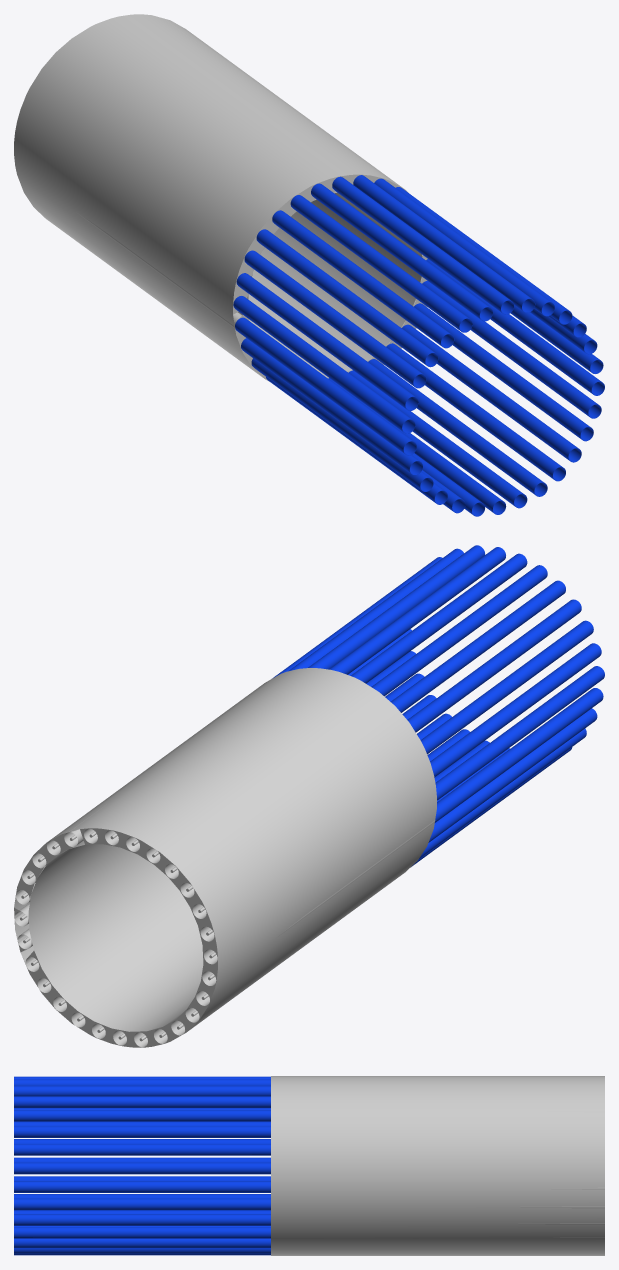
File: pow2019.FBX
3 renders of one model, top to bottom at view 1: azimuth 30°, elevation 25°; view 2: azimuth 150°, elevation 25°; view 3: azimuth 270°, elevation 25°, orthographic. The views are drawn at different scales.
Parts seen in each view (by area): view 1: Part19:1, aairbag:9, aairbag:6, aairbag:7, aairbag:11, aairbag:2, aairbag:3, aairbag:27, aairbag:1, aairbag:8, aairbag:5, aairbag:15 (+15 smaller); view 2: Part19:1, aairbag:11, aairbag:2, aairbag:3, aairbag:1, aairbag:8, aairbag:7, aairbag:9, aairbag:6, aairbag:27, aairbag:5, aairbag:24 (+3 smaller); view 3: Part19:1, aairbag:5, aairbag:19, aairbag:21, aairbag:4, aairbag:10, aairbag:17, aairbag:18, aairbag:20, aairbag:22, aairbag:6, aairbag:15 (+11 smaller).
Part boxes in pixels (left/top/right/bottom): Part19:1: left=14, top=14, right=427, bottom=381; aairbag:9: left=233, top=296, right=415, bottom=433; aairbag:6: left=332, top=177, right=514, bottom=314; aairbag:7: left=311, top=183, right=492, bottom=321; aairbag:11: left=256, top=229, right=438, bottom=367; aairbag:2: left=244, top=250, right=426, bottom=388; aairbag:3: left=272, top=210, right=454, bottom=348; aairbag:27: left=235, top=318, right=416, bottom=455; aairbag:1: left=291, top=195, right=472, bottom=332; aairbag:8: left=237, top=273, right=418, bottom=410; aairbag:5: left=353, top=175, right=535, bottom=312; aairbag:15: left=402, top=325, right=581, bottom=462; Part19:1: left=14, top=668, right=437, bottom=1047; aairbag:11: left=407, top=599, right=581, bottom=732; aairbag:2: left=420, top=620, right=593, bottom=754; aairbag:3: left=391, top=580, right=565, bottom=712; aairbag:1: left=371, top=565, right=547, bottom=696; aairbag:8: left=430, top=643, right=601, bottom=777; aairbag:7: left=351, top=553, right=527, bottom=683; aairbag:9: left=435, top=666, right=604, bottom=800; aairbag:6: left=329, top=547, right=505, bottom=674; aairbag:27: left=435, top=688, right=603, bottom=822; aairbag:5: left=308, top=545, right=485, bottom=669; aairbag:24: left=428, top=708, right=597, bottom=842; Part19:1: left=271, top=1076, right=604, bottom=1255; aairbag:5: left=14, top=1096, right=270, bottom=1108; aairbag:19: left=14, top=1198, right=270, bottom=1210; aairbag:21: left=14, top=1162, right=270, bottom=1174; aairbag:4: left=14, top=1110, right=270, bottom=1121; aairbag:10: left=14, top=1126, right=270, bottom=1137; aairbag:17: left=14, top=1227, right=270, bottom=1238; aairbag:18: left=14, top=1214, right=270, bottom=1225; aairbag:20: left=14, top=1181, right=270, bottom=1192; aairbag:22: left=14, top=1144, right=270, bottom=1155; aairbag:6: left=14, top=1086, right=270, bottom=1096; aairbag:15: left=14, top=1238, right=270, bottom=1248.
Bounding box in the file's own units: 21.97 × 21.97 × 72.26.
